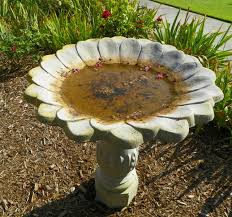bird bath: (24, 19, 232, 213)
vegetation: (1, 1, 137, 31), (154, 9, 232, 59)
water: (59, 51, 192, 125)
